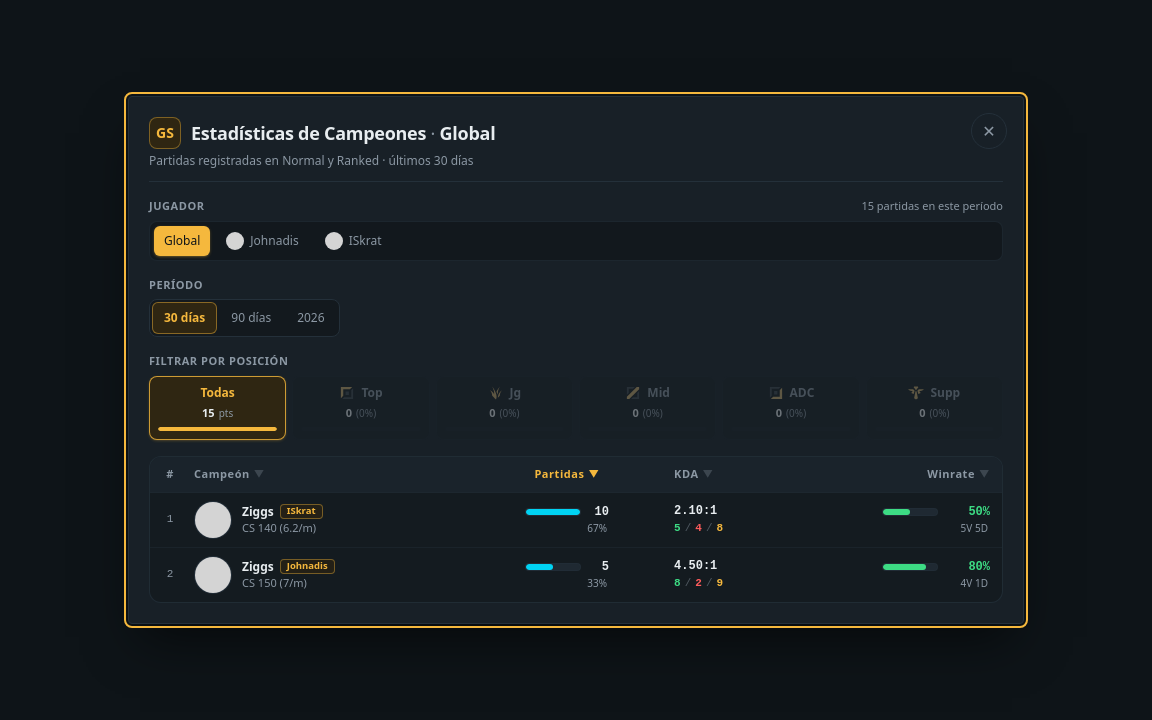
Test case: ModalCampeones › en vista global muestra filas separadas por jugador para comparar el mismo campeón
This screenshot has width=1152, height=720.
Expected: the 2nd row shows "ISkrat", 287,504 -> 316,517
Expected: the 2nd row shows "50%", 968,505 -> 990,519
// Al ordenar por KDA desc: Johnadis (4.50) debe estar primero que ISkrat (2.10)
Click the button "KDA ▼": (694, 474) 674,467 -> 714,481
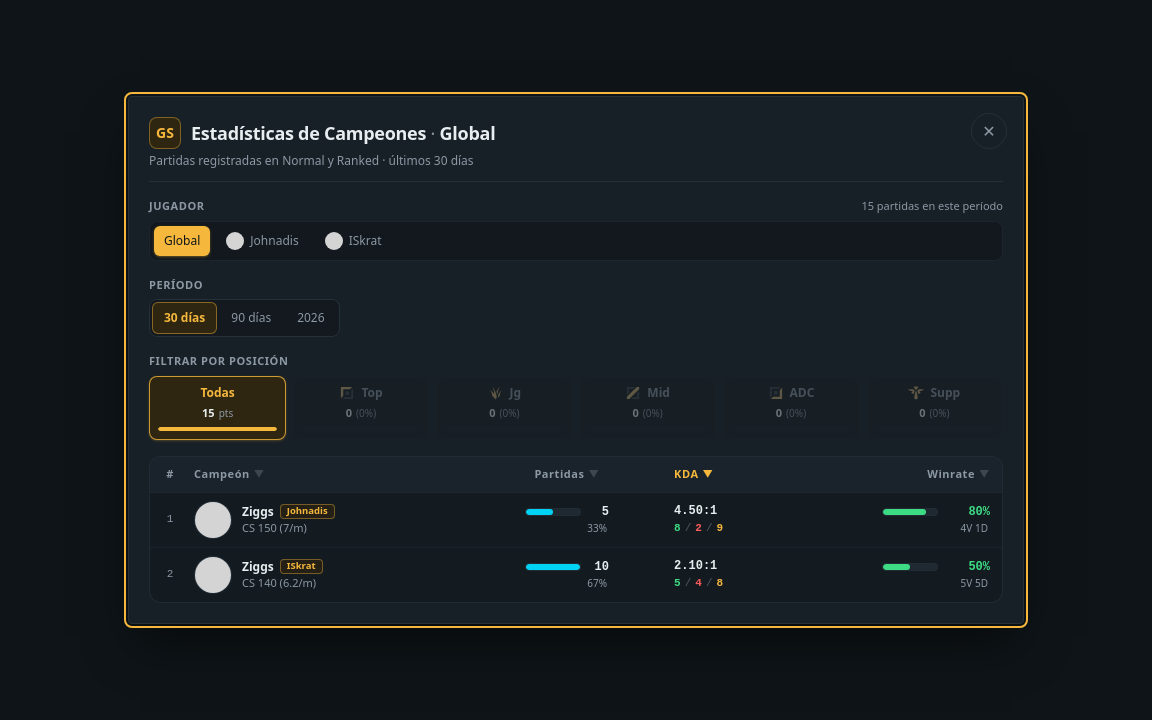
Expected: the 2nd row shows "Johnadis", 287,504 -> 328,517
Expected: the 2nd row shows "4.50:1", 674,504 -> 717,518
Expected: the 3rd row shows "ISkrat", 287,559 -> 316,572
